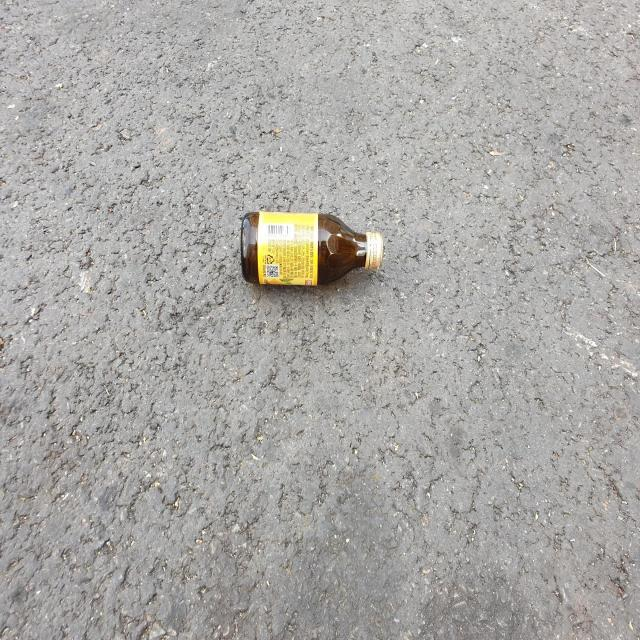glass: (241, 211, 383, 285)
